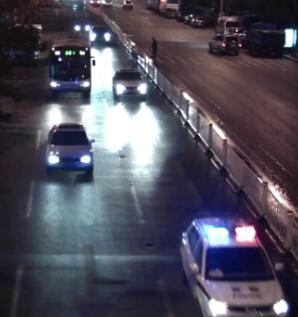bus: (43, 35, 95, 104)
car: (177, 214, 287, 313), (39, 119, 96, 183), (108, 67, 149, 101), (205, 32, 243, 55), (86, 25, 113, 45), (67, 13, 92, 33), (218, 13, 236, 35), (224, 26, 244, 41)
